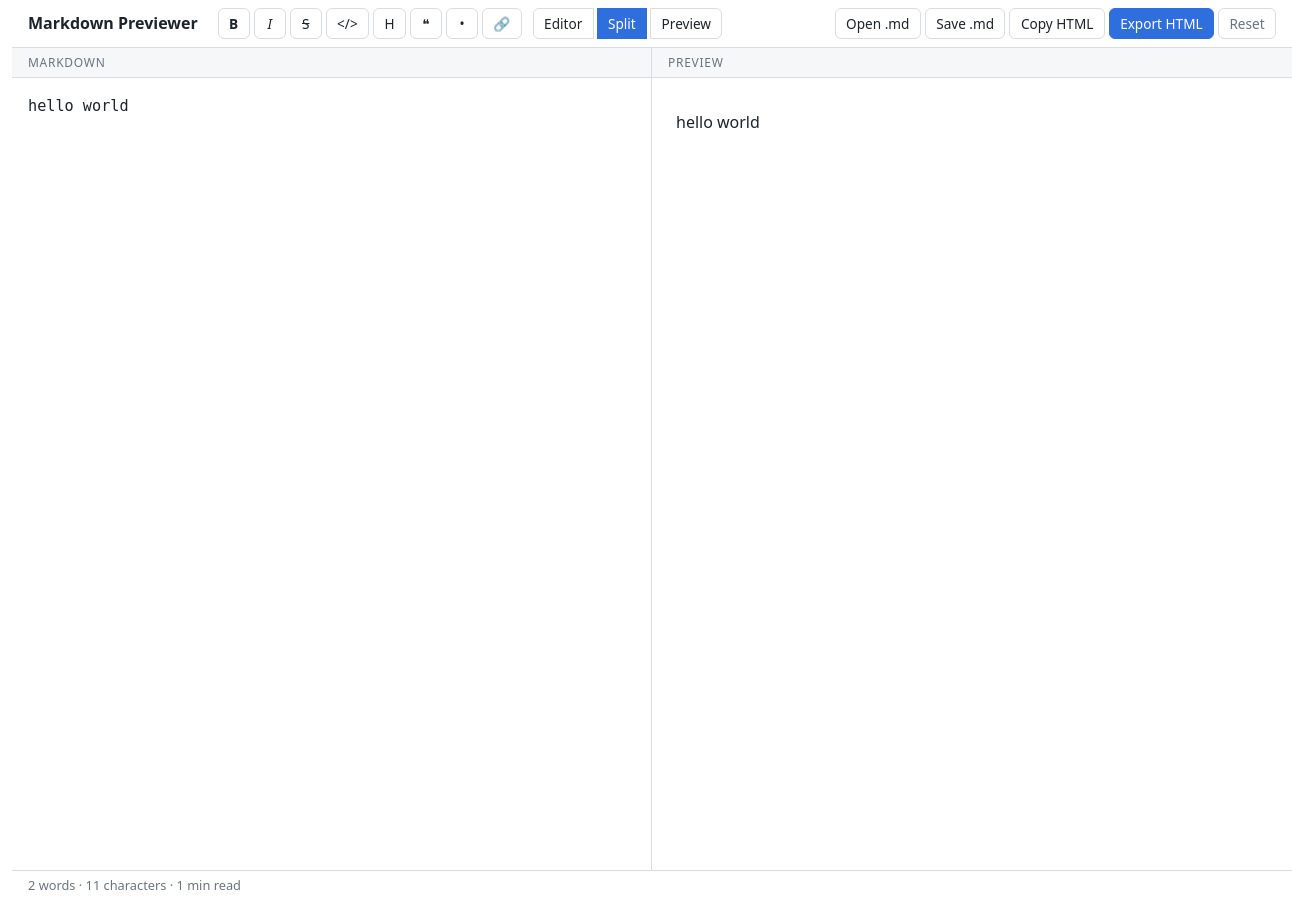
Scenario: <App /> › bolds the selection with Ctrl+B and the toolbar toggles it back
Press b in the text box named "Markdown editor", box [12,78,651,870]
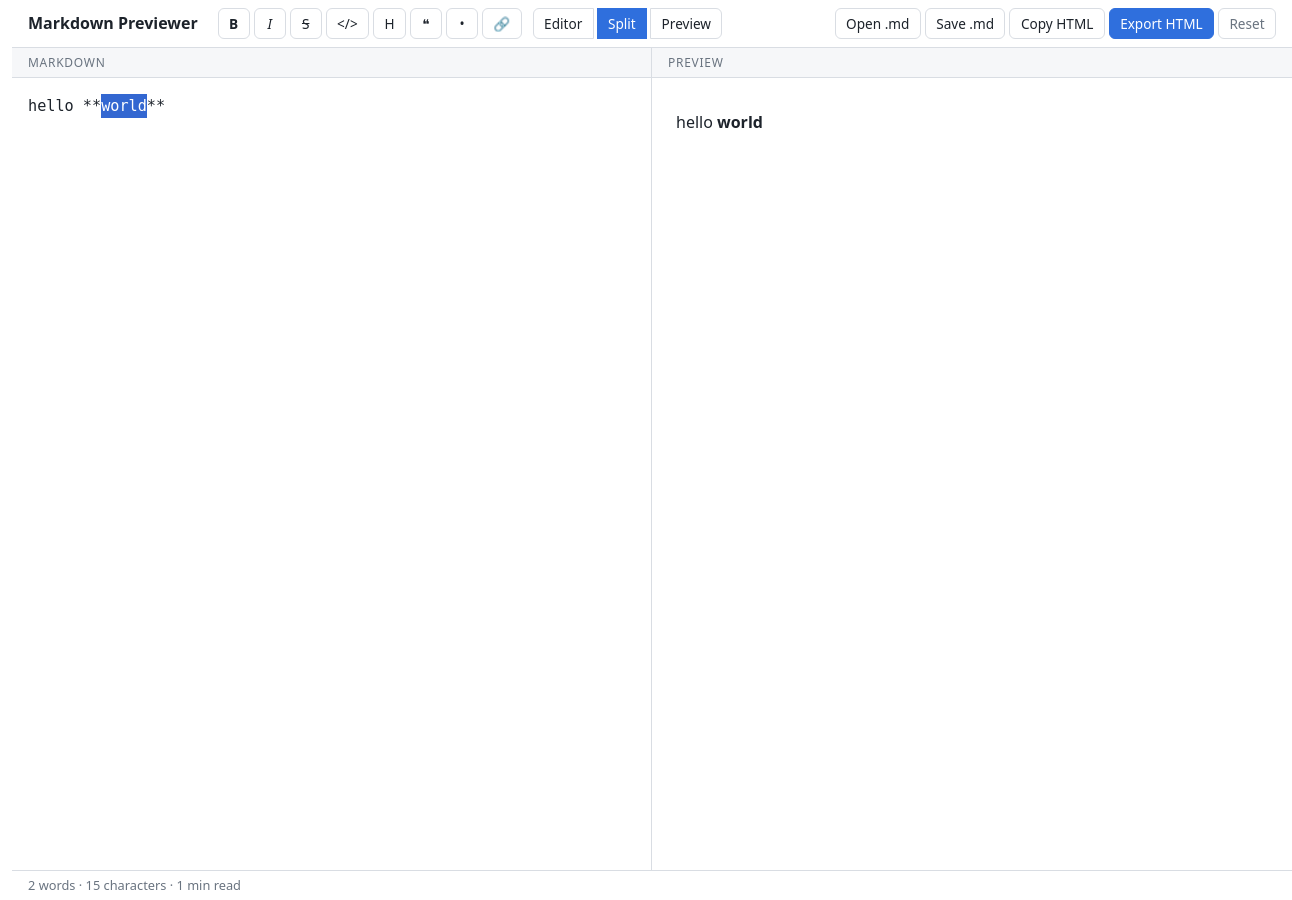
Expected: the text "world" is shown, [717,111,763,133]
Now the text box named "Markdown editor" holds "hello **world**", box [12,78,651,870]
Click the button named "Bold" at (234, 23), box [218,8,250,39]
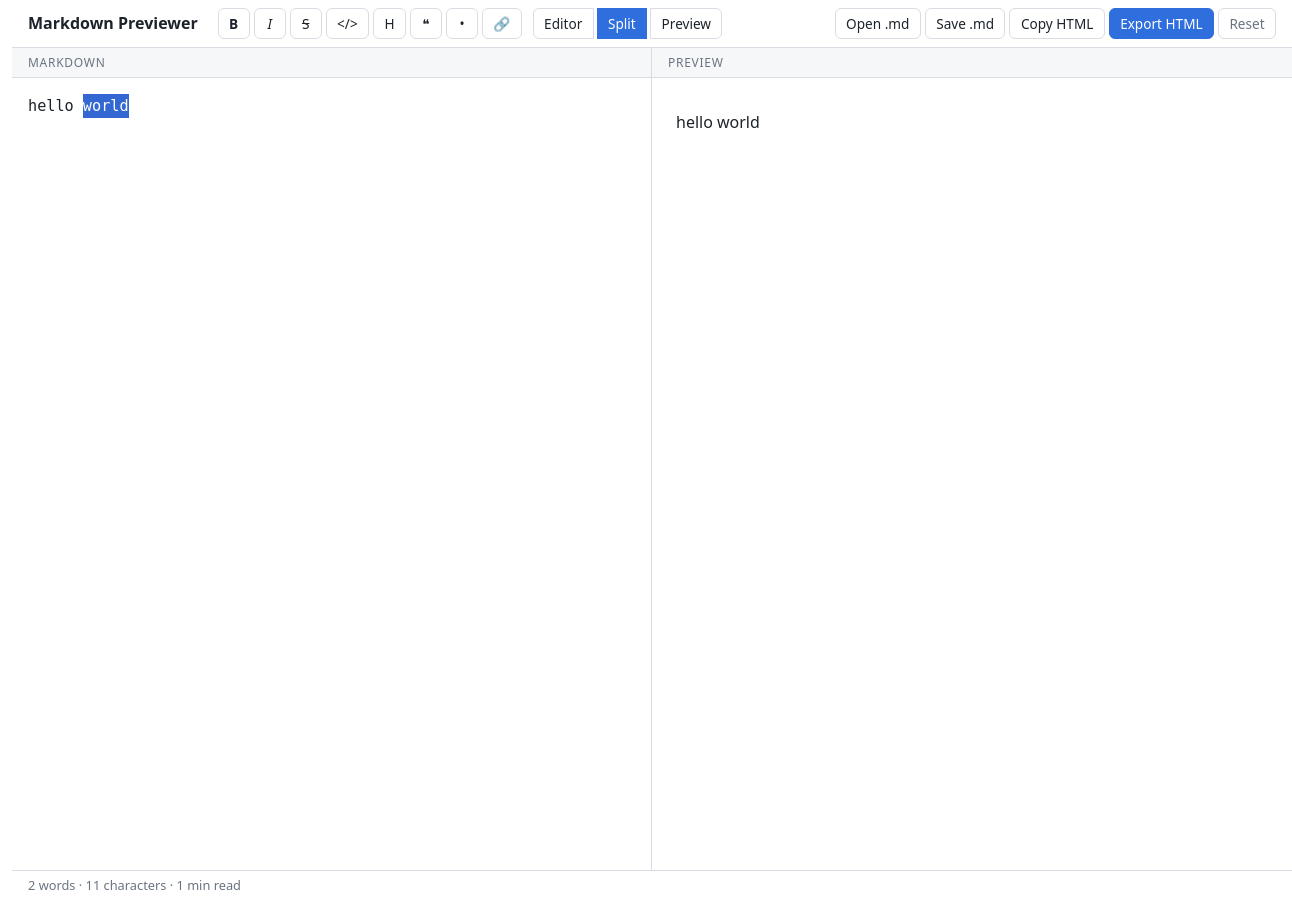
Now the text box named "Markdown editor" holds "hello world", box [12,78,651,870]
